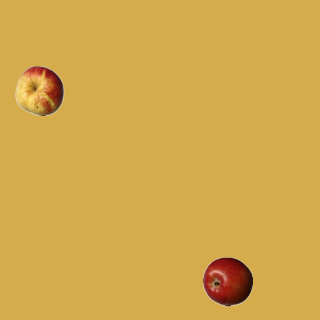Apple Braeburn: (202, 256, 252, 306)
Apple Red Yellow 1: (14, 65, 64, 115)
